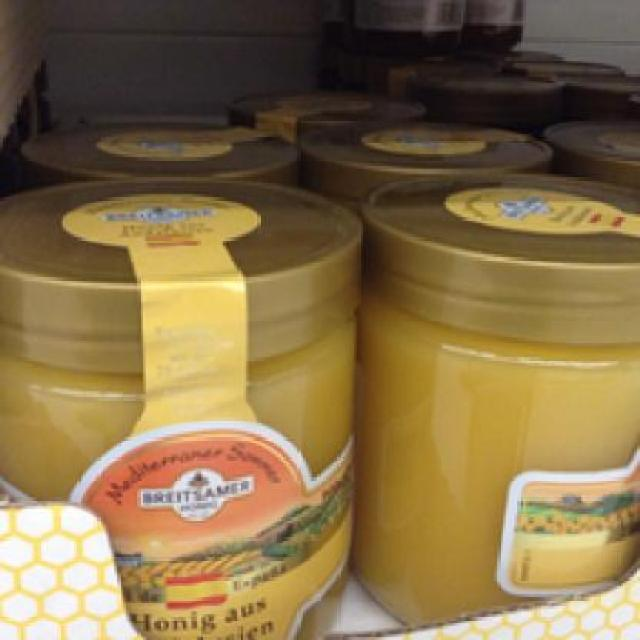Honey: (0, 177, 357, 637), (363, 165, 634, 638)
